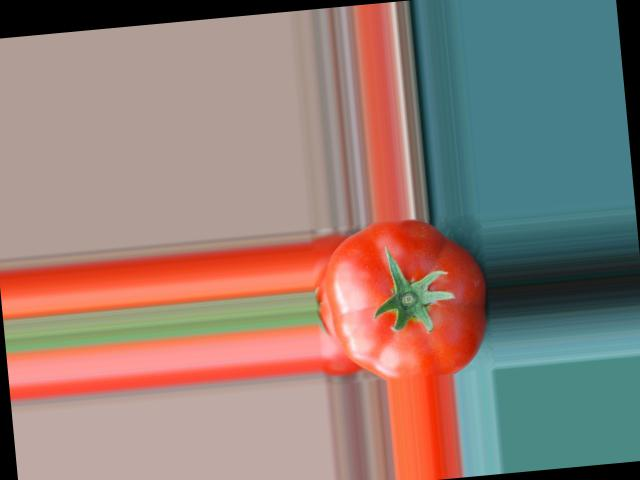tomato: (319, 211, 492, 385)
